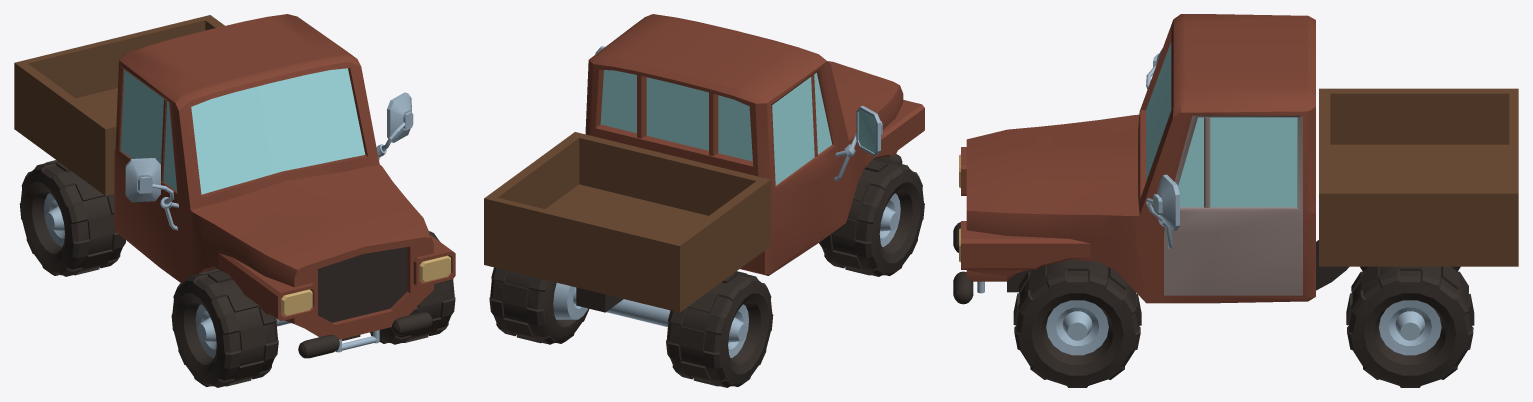
Rendered from Truck01.fbx.
The picture shows the model from 3 angles, left to right: view 1: azimuth 30°, elevation 25°; view 2: azimuth 150°, elevation 25°; view 3: azimuth 270°, elevation 25°; orthographic projection. The views are drawn at different scales.
Visible parts, largest first — view 1: TruckBody, Tire_RightFront, Tires_Rear, Tire_LeftFront; view 2: TruckBody, Tires_Rear, Tire_RightFront; view 3: TruckBody, Tire_LeftFront, Tires_Rear.
Boxes of the visible parts, bbox=[...] form: TruckBody: bbox=[14, 14, 455, 358]; Tire_RightFront: bbox=[171, 268, 278, 387]; Tires_Rear: bbox=[19, 160, 125, 276]; Tire_LeftFront: bbox=[370, 231, 455, 344]; TruckBody: bbox=[484, 14, 924, 312]; Tires_Rear: bbox=[489, 267, 773, 387]; Tire_RightFront: bbox=[819, 158, 924, 276]; TruckBody: bbox=[953, 14, 1518, 304]; Tire_LeftFront: bbox=[1013, 259, 1141, 387]; Tires_Rear: bbox=[1346, 266, 1474, 387].
Bounding box in the file's own units: 341 × 534 × 286.
